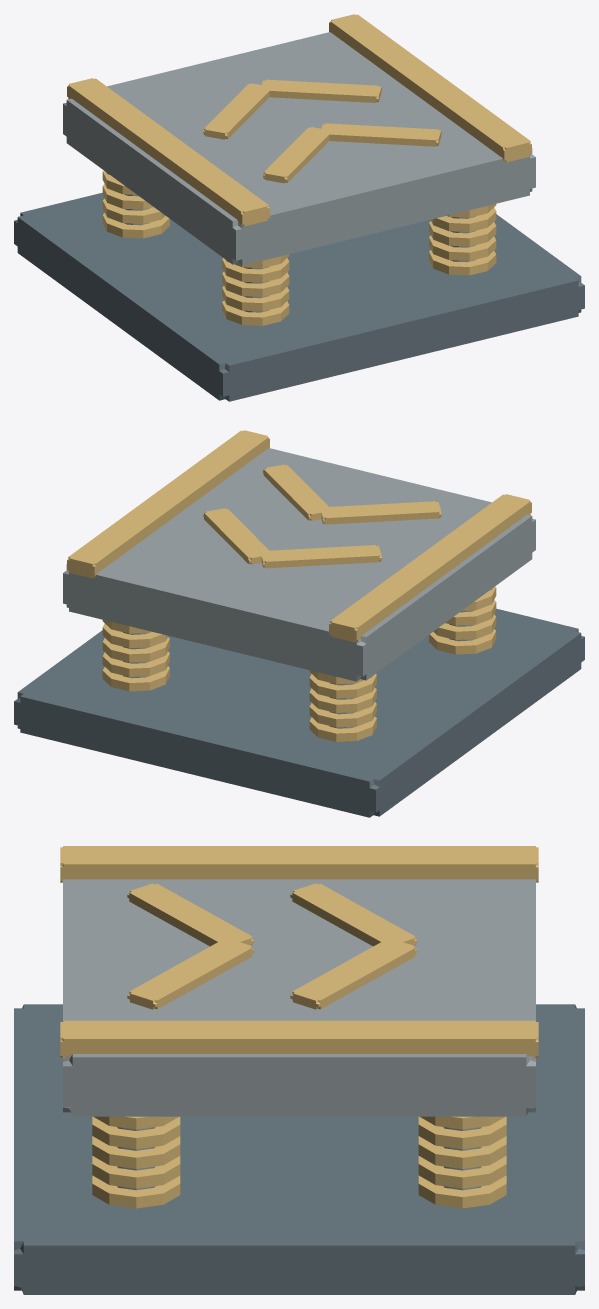
The model's file is BumpTrap.fbx.
3 renders of one model, top to bottom at view 1: azimuth 30°, elevation 25°; view 2: azimuth 150°, elevation 25°; view 3: azimuth 270°, elevation 25°, orthographic. The views are drawn at different scales.
Parts seen in each view (by area): view 1: BumpTrap; view 2: BumpTrap; view 3: BumpTrap.
Part boxes in pixels (x1=…): BumpTrap: x1=14, y1=14, x2=584, y2=401; BumpTrap: x1=14, y1=430, x2=584, y2=817; BumpTrap: x1=14, y1=846, x2=584, y2=1294.
Bounding box in the file's own units: 105 × 47.1 × 105.
